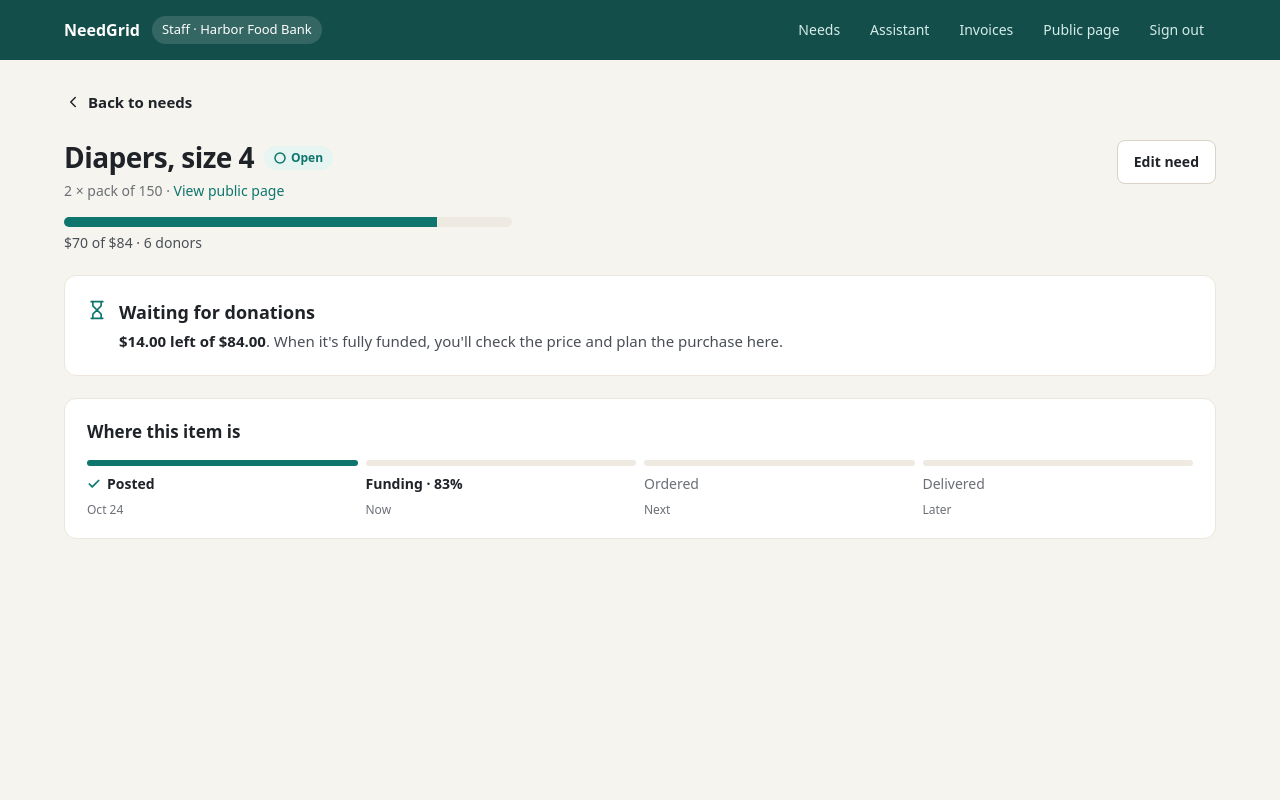
it: Edit need dialog › locks the quantity once money arrived and shows the minimum target
Expected: the heading "Diapers, size 4" is shown, [64,140,254,175]
Click the button "Edit need" at (1166, 162), box [1117,140,1216,184]
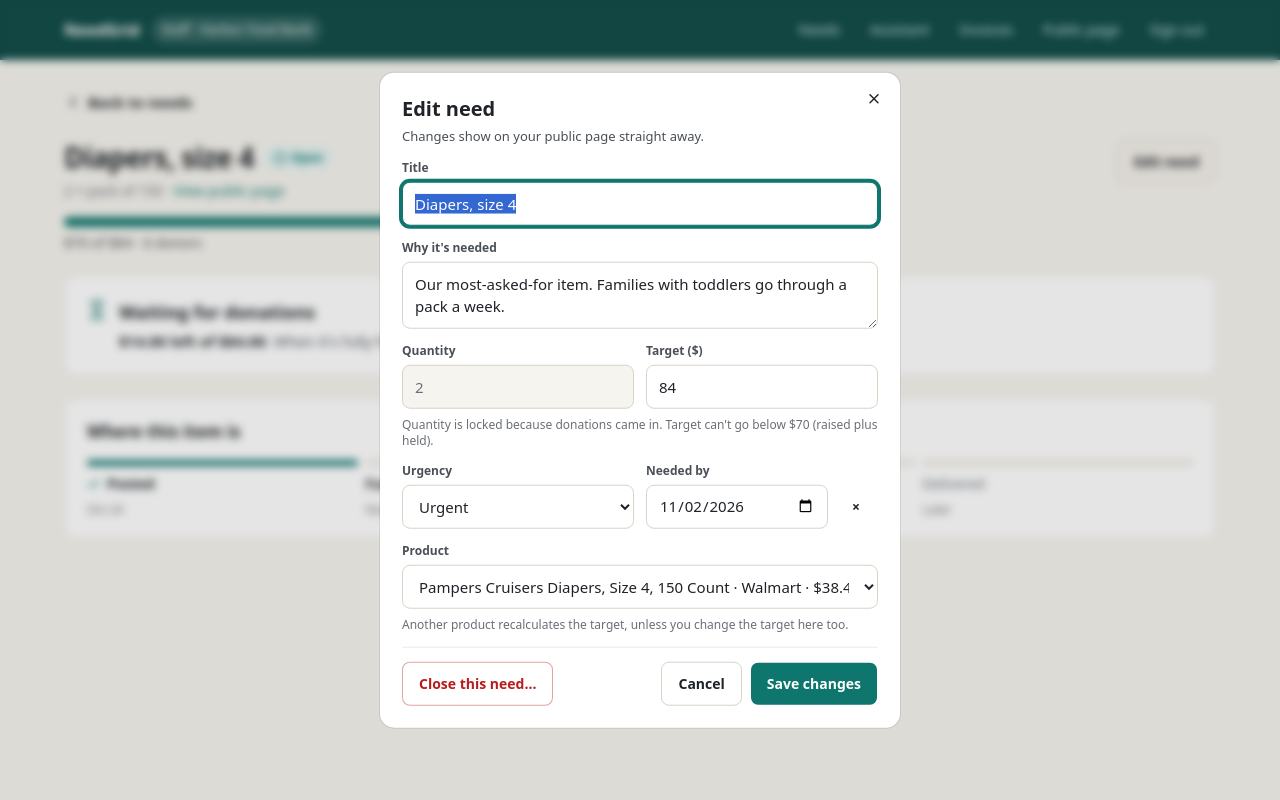
Now the field labelled "Quantity" is disabled, box [402,364,634,408]
